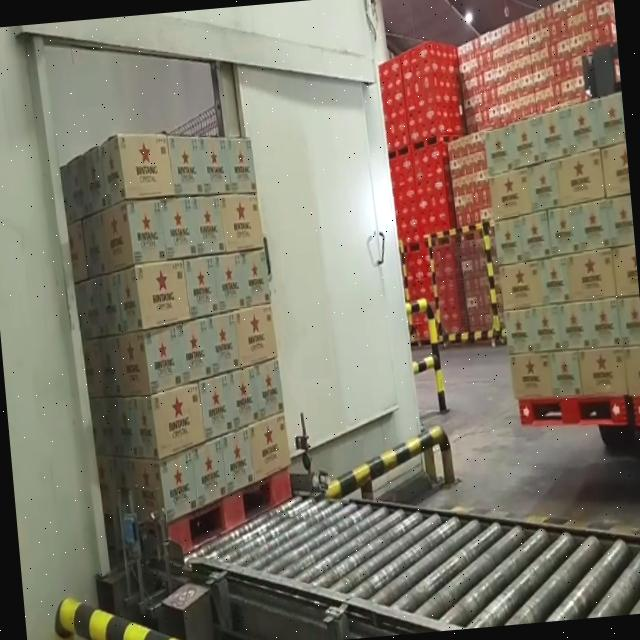pallet: (47, 104, 303, 568), (469, 104, 633, 447), (596, 89, 640, 455)
